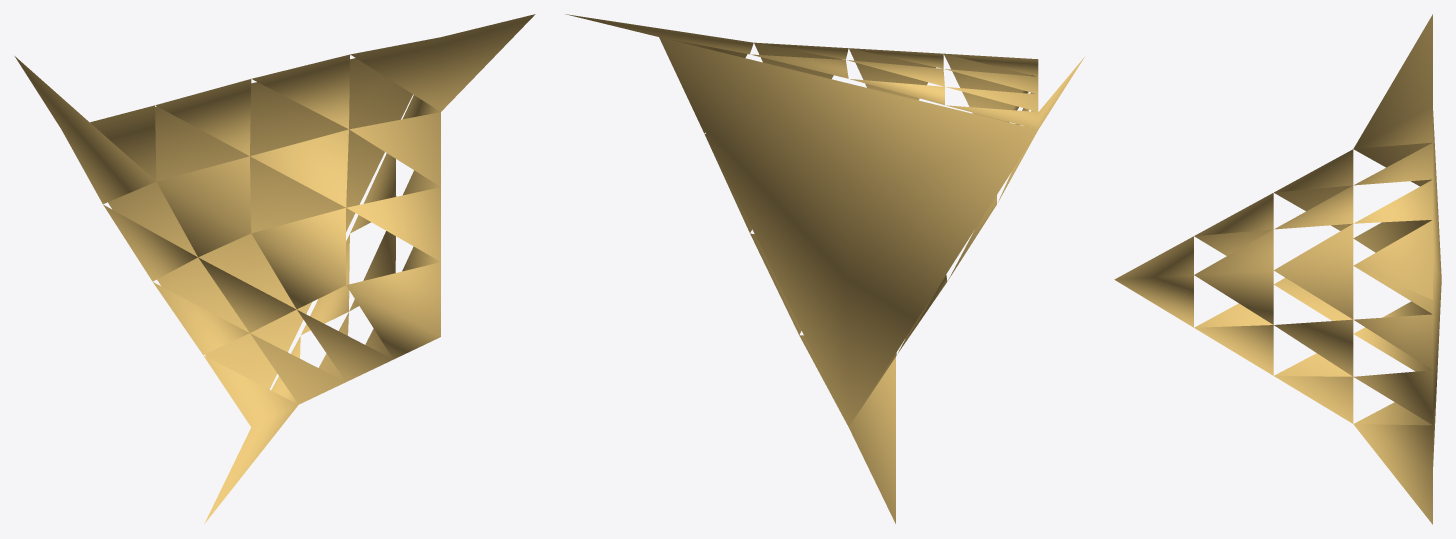
File: Samosa.glb
The picture shows the model from 3 angles, left to right: view 1: azimuth 30°, elevation 25°; view 2: azimuth 150°, elevation 25°; view 3: azimuth 270°, elevation 25°; orthographic projection. The views are drawn at different scales.
Bounding box in the file's own units: 0.0572 × 0.054 × 0.037.
